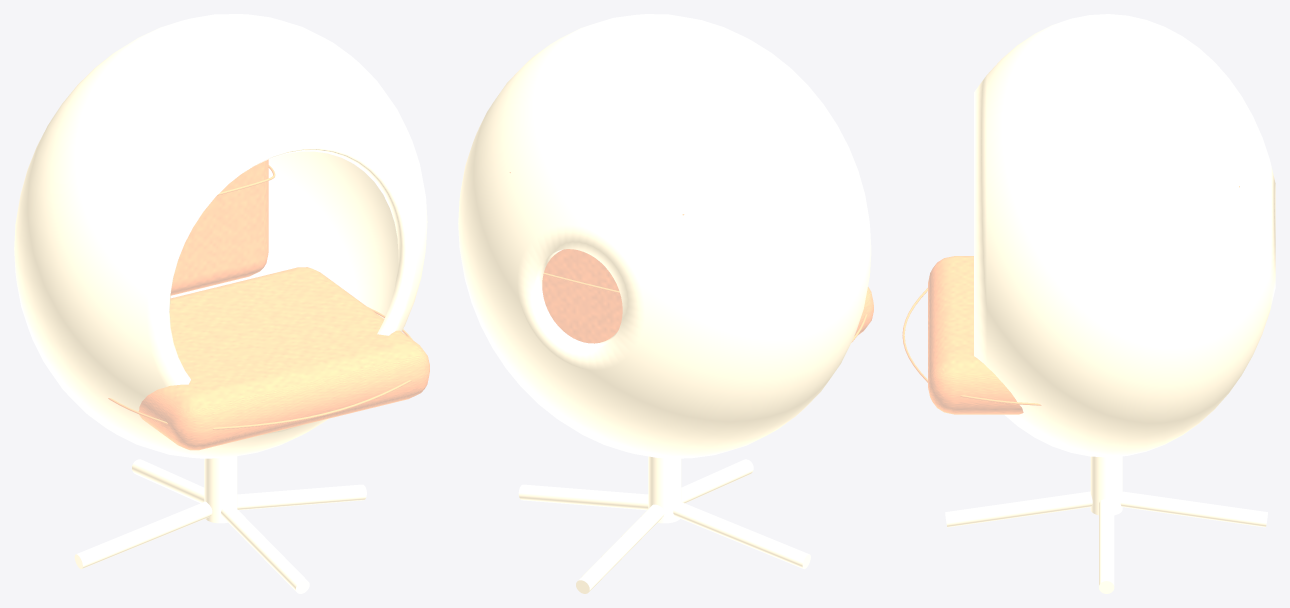
Rendered from ref05_07.glb.
3 renders of one model, left to right at view 1: azimuth 30°, elevation 25°; view 2: azimuth 150°, elevation 25°; view 3: azimuth 270°, elevation 25°, orthographic. The views are drawn at different scales.
Visible parts, largest first — view 1: ref05_07; view 2: ref05_07; view 3: ref05_07.
Boxes of the visible parts, x1,y1,x2,y2 form: ref05_07: [14, 14, 429, 593]; ref05_07: [458, 14, 873, 593]; ref05_07: [902, 14, 1275, 593].
Size of the model in its own units: 0.9199 by 1.19 by 0.8153.
2 materials, 1 textured.
